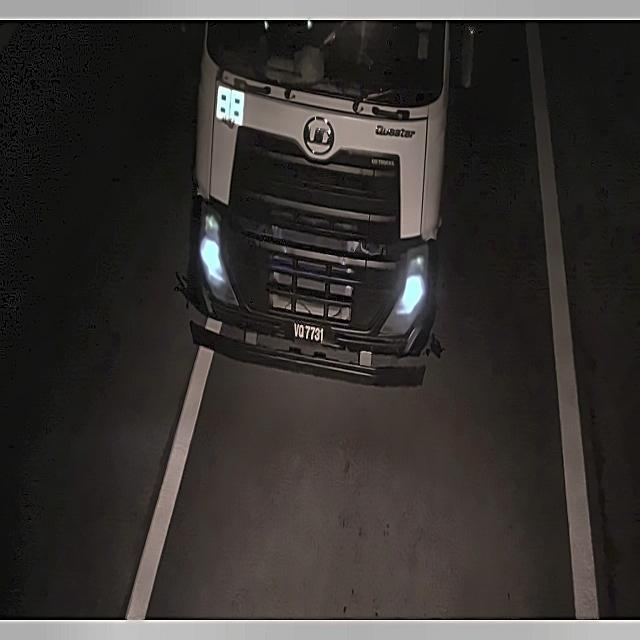car: (286, 318, 330, 352)
